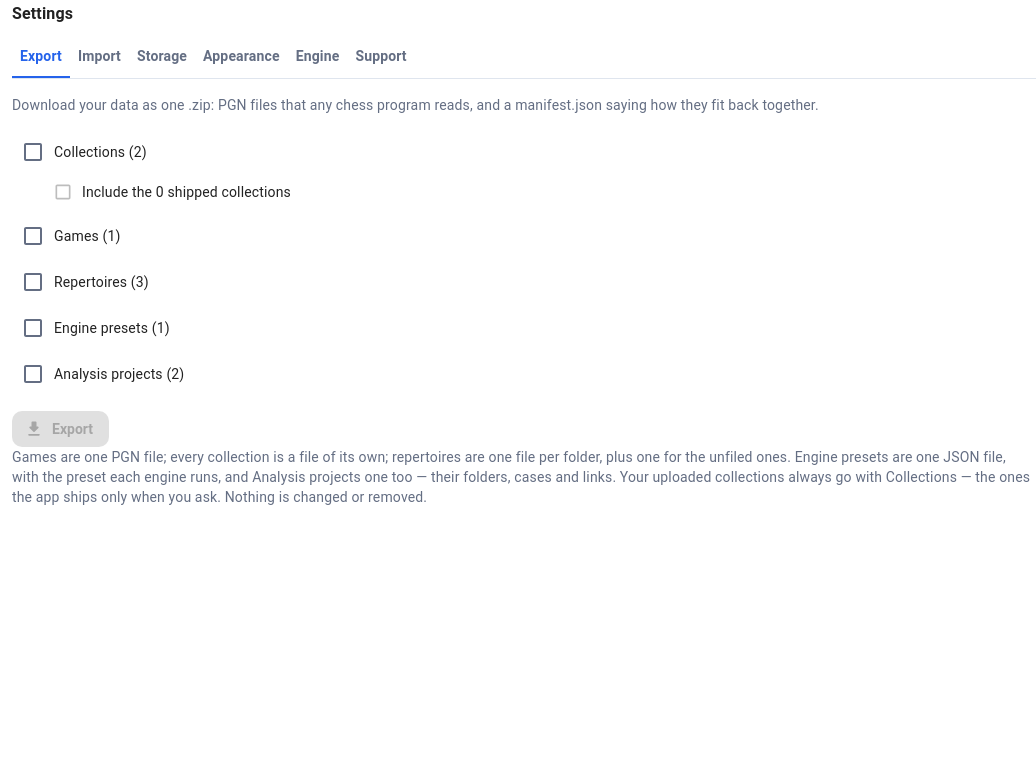
the Export tab › downloads one zip of the ticked categories, with its manifest
Click the checkbox labelled "Games (1)" at point(71, 236), box [21, 224, 120, 248]
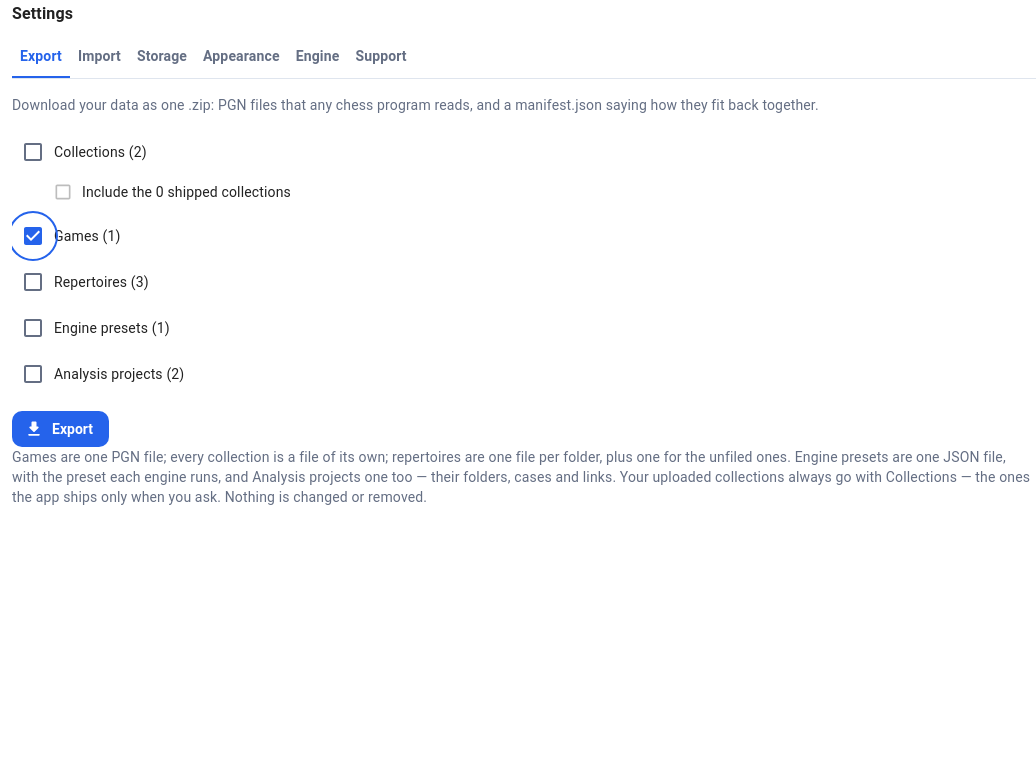
Click the checkbox labelled "Repertoires (3)" at point(85, 282), box [21, 270, 149, 294]
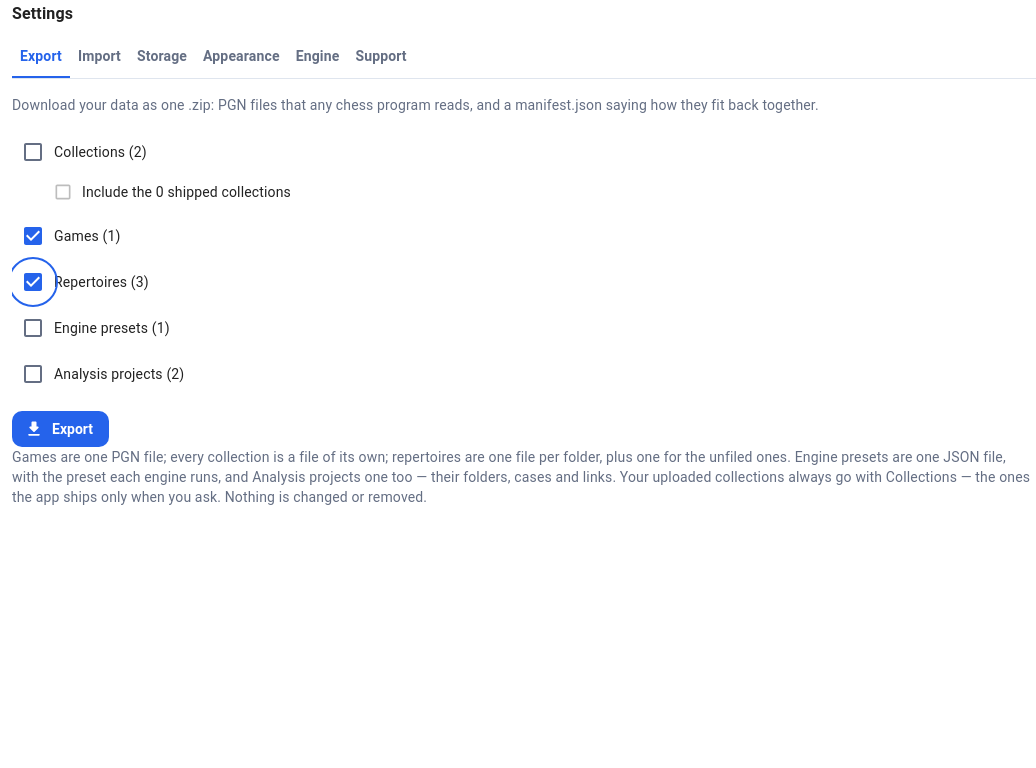
Click the checkbox labelled "Collections (2)" at point(84, 152), box [21, 140, 147, 164]
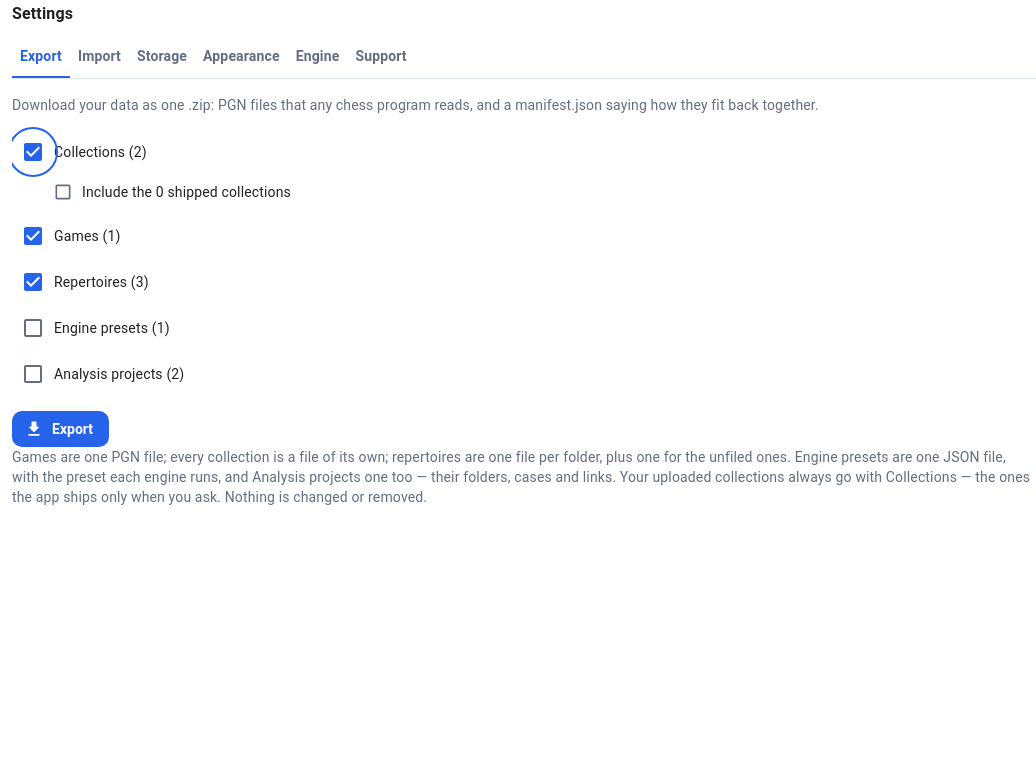
Click the button with test id "settings-export-run" at point(60, 429), box [12, 410, 109, 447]
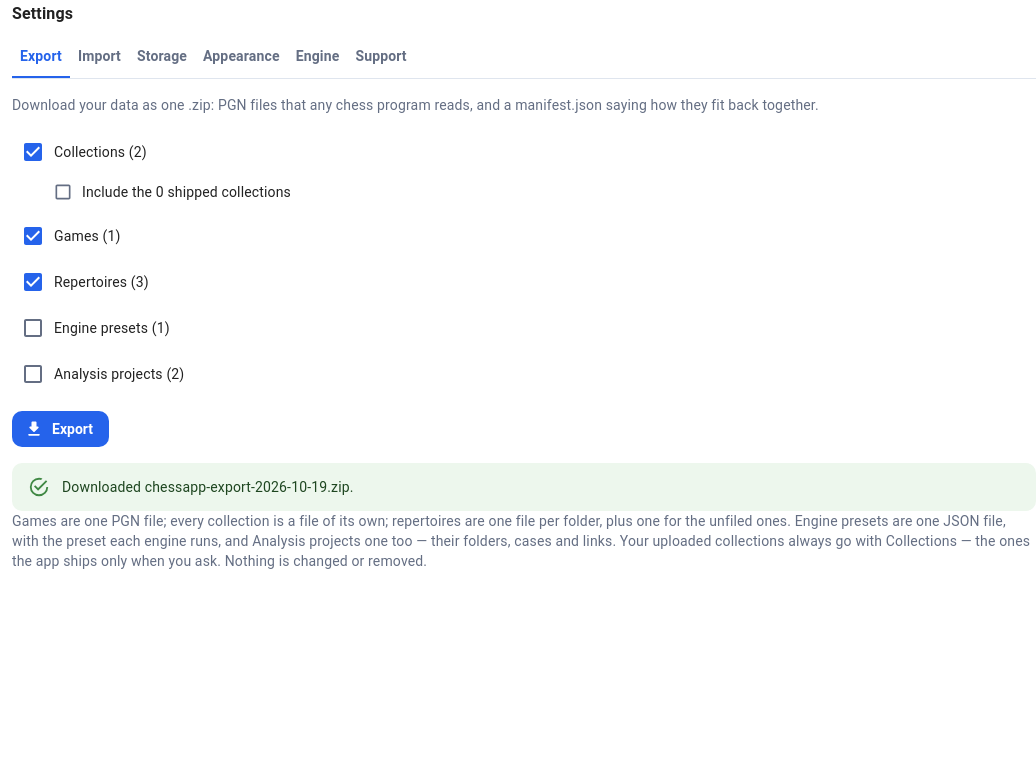
Now the message with test id "settings-export-done" reads "Downloaded chessapp-export-2026-10-19.zip.", box [62, 479, 354, 495]
